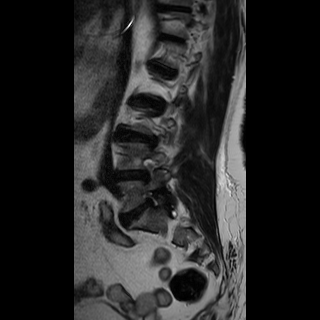RFS3: (138, 184, 162, 212)
